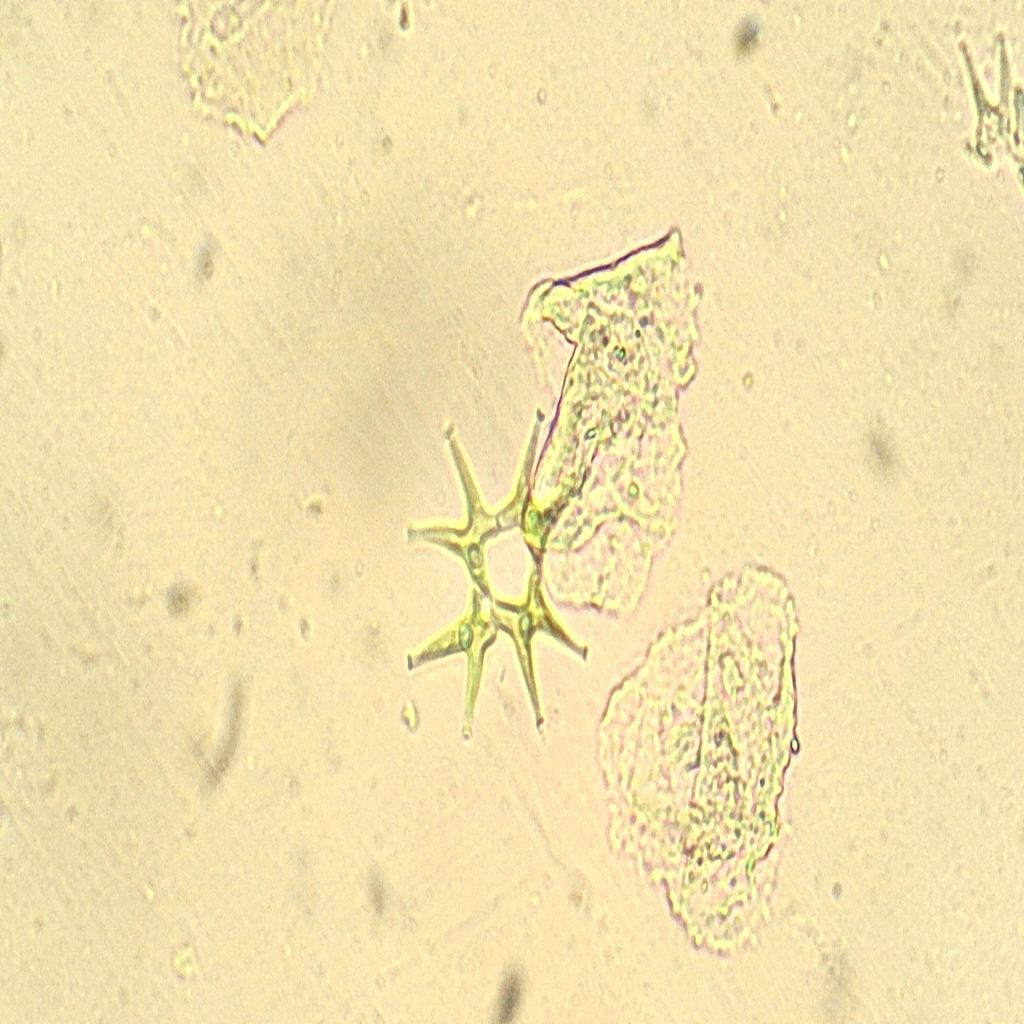Pediastrum_CF: (388, 379, 604, 775)
